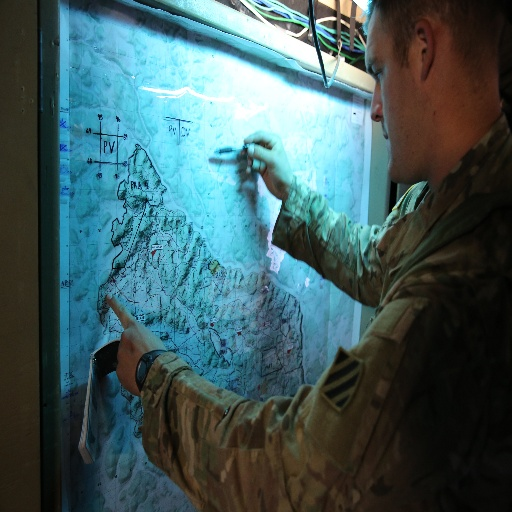hand: (101, 293, 165, 395), (239, 125, 294, 203)
